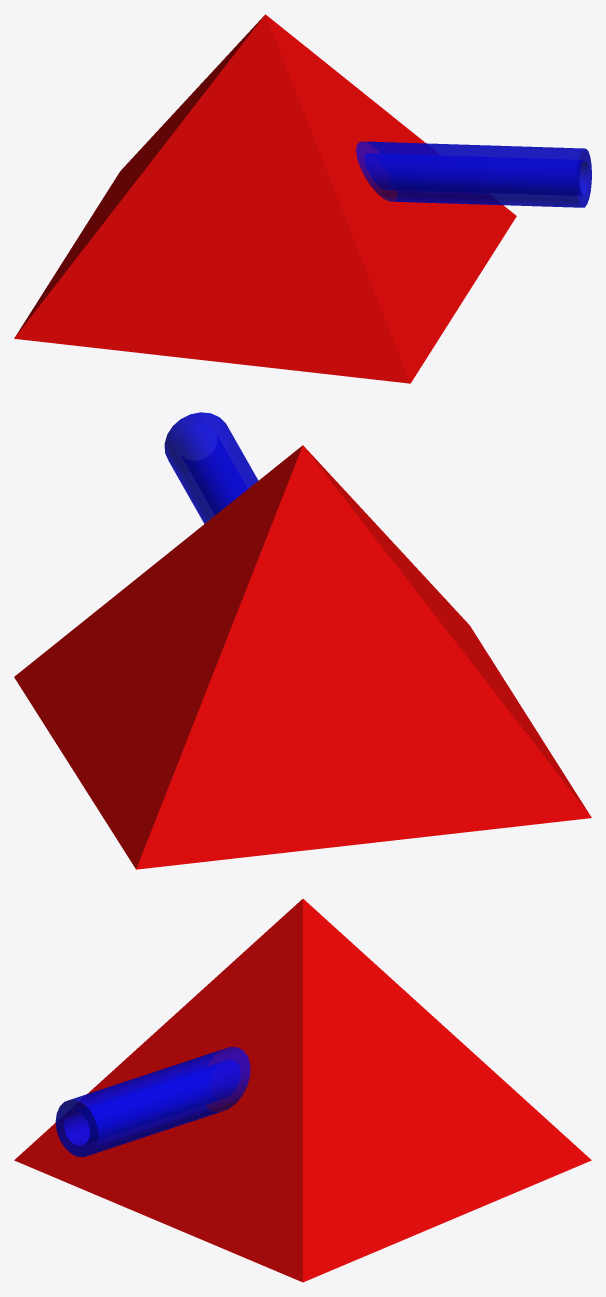
Rendered from Searchlight Magnet.fbx.
The picture shows the model from 3 angles, top to bottom: view 1: azimuth 30°, elevation 25°; view 2: azimuth 150°, elevation 25°; view 3: azimuth 270°, elevation 25°; orthographic projection. The views are drawn at different scales.
Visible parts, largest first — view 1: pPyramid2; view 2: pPyramid2; view 3: pPyramid2.
Boxes of the visible parts, <box> form: pPyramid2: <box>14,14,591,383</box>; pPyramid2: <box>14,412,591,869</box>; pPyramid2: <box>14,899,591,1282</box>.
Bounding box in the file's own units: 24.91 × 12.46 × 24.91.
